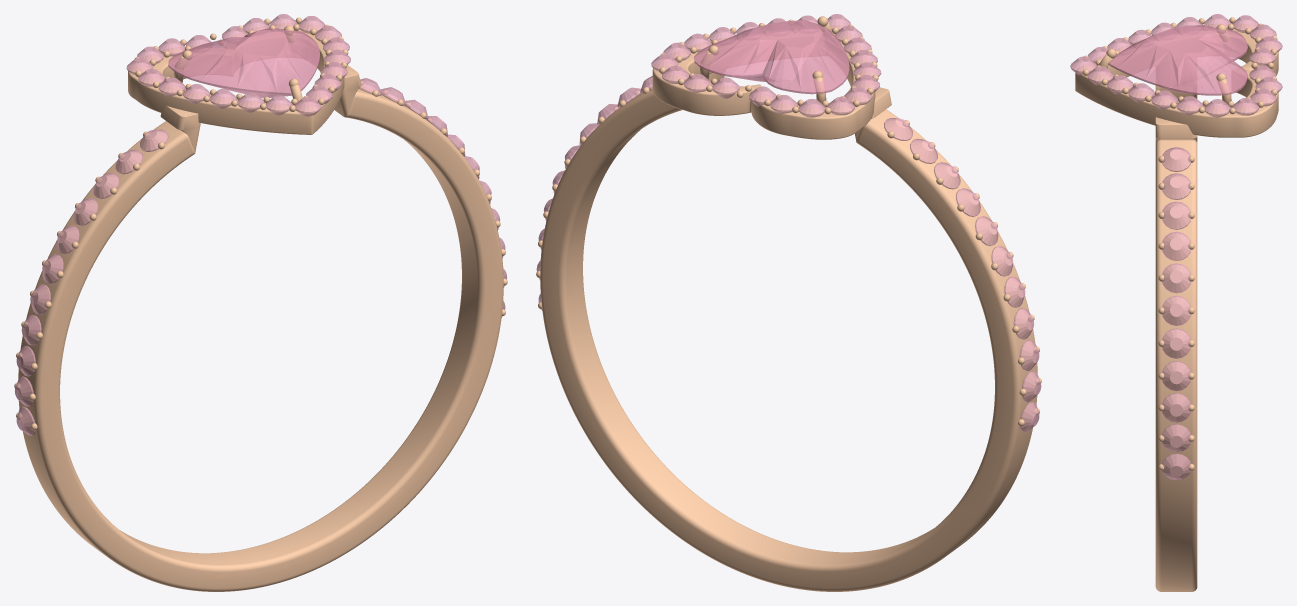
File: J003-detail-v04.glb
The picture shows the model from 3 angles, left to right: view 1: azimuth 30°, elevation 25°; view 2: azimuth 150°, elevation 25°; view 3: azimuth 270°, elevation 25°; orthographic projection. The views are drawn at different scales.
Visible parts, largest first — view 1: J003_Metal, J003_AccentStones, J003_MainStone; view 2: J003_Metal, J003_AccentStones, J003_MainStone; view 3: J003_Metal, J003_AccentStones, J003_MainStone.
Boxes of the visible parts, x1=… form: J003_Metal: x1=14, y1=17, x2=507, y2=591; J003_AccentStones: x1=15, y1=14, x2=507, y2=435; J003_MainStone: x1=168, y1=28, x2=319, y2=98; J003_Metal: x1=536, y1=16, x2=1041, y2=591; J003_AccentStones: x1=536, y1=14, x2=1041, y2=432; J003_MainStone: x1=694, y1=20, x2=849, y2=94; J003_Metal: x1=1075, y1=17, x2=1278, y2=591; J003_AccentStones: x1=1070, y1=14, x2=1282, y2=480; J003_MainStone: x1=1108, y1=25, x2=1247, y2=95.
Bounding box in the file's own units: 0.0185 × 0.0195 × 0.00711.
